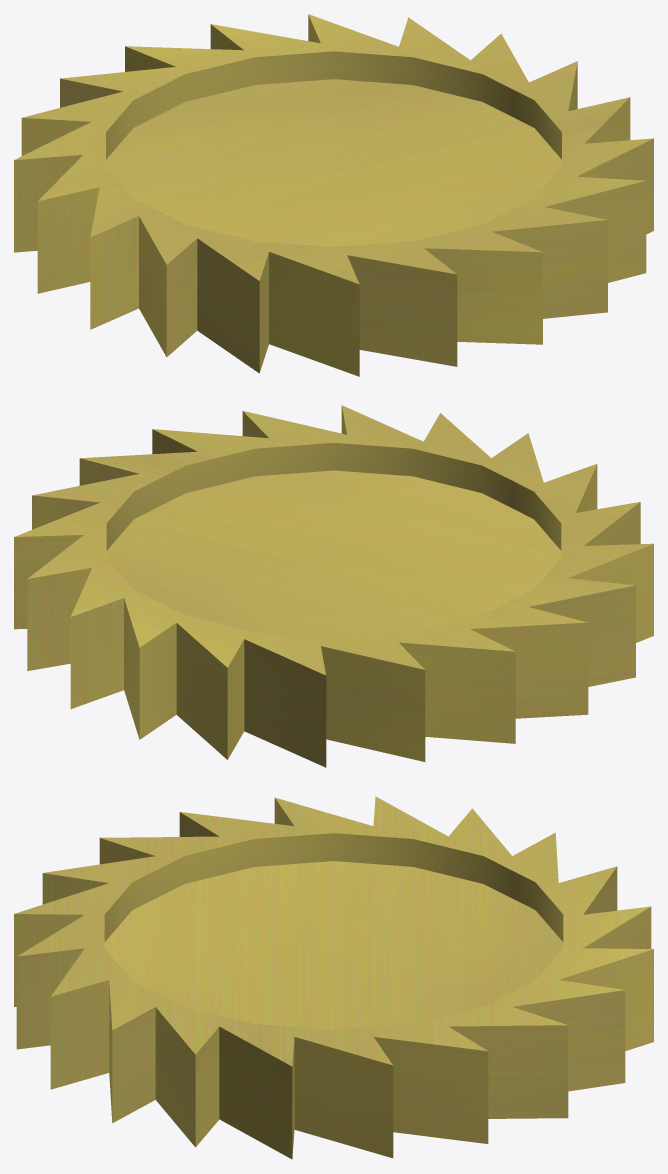
The model's file is ClockAngleFacet6Spoke020.fbx.
3 renders of one model, top to bottom at view 1: azimuth 30°, elevation 25°; view 2: azimuth 150°, elevation 25°; view 3: azimuth 270°, elevation 25°, orthographic.
Parts seen in each view (by area): view 1: ClockAngleFacet6Spoke020; view 2: ClockAngleFacet6Spoke020; view 3: ClockAngleFacet6Spoke020.
Boxes of the visible parts, x1=… form: ClockAngleFacet6Spoke020: x1=14, y1=14, x2=653, y2=376; ClockAngleFacet6Spoke020: x1=14, y1=405, x2=653, y2=767; ClockAngleFacet6Spoke020: x1=14, y1=796, x2=653, y2=1159.
Size of the model in its own units: 123 by 19.69 by 123.
